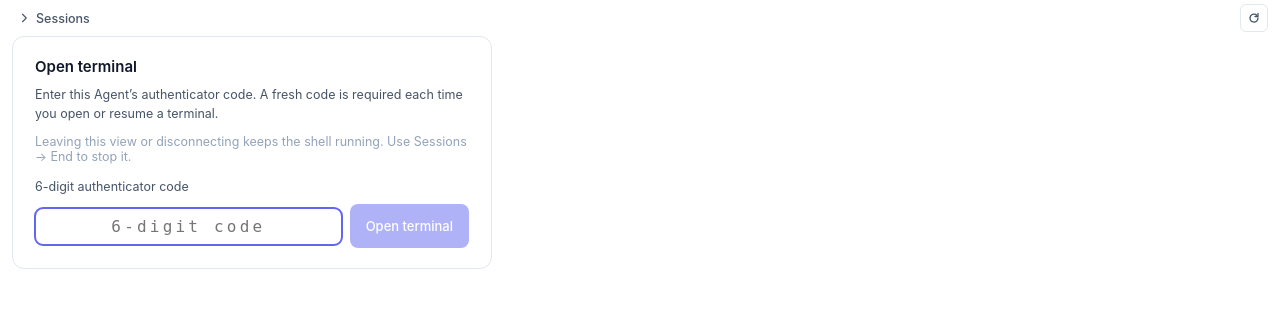
Test: Terminal session recovery › does not resurrect an ended shell with an older refresh result
What coordinates should you click on to do the following:
click the button "Sessions"
I would click on:
 (63, 18)
Its box is [12, 6, 1236, 30].
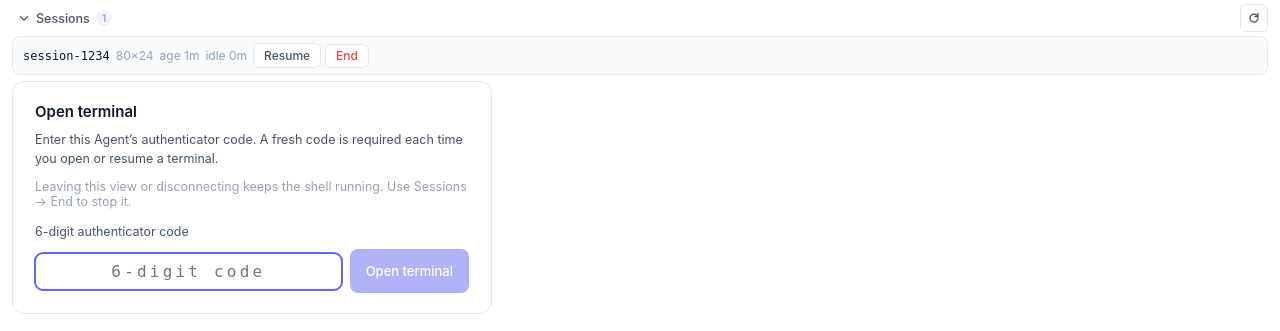
What coordinates should you click on to do the following:
click the button named "Refresh"
I would click on:
 (1254, 18)
Its box is [1240, 4, 1268, 32].
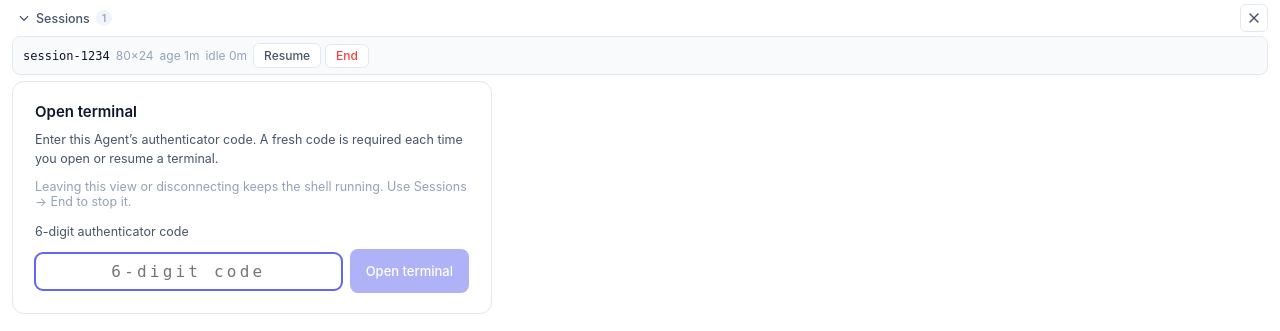
Now the button "End" is shown
What coordinates should you click on to do the following:
click the button "End"
I would click on:
 (347, 56)
Its box is [325, 44, 369, 68].
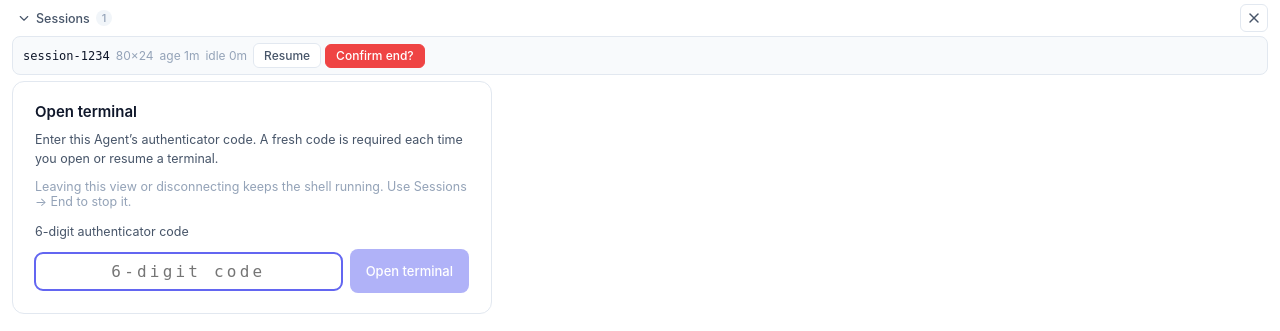
Now the button "Confirm end?" is shown
What coordinates should you click on to do the following:
click the button "Confirm end?"
I would click on:
 (375, 56)
Its box is [325, 44, 425, 68].
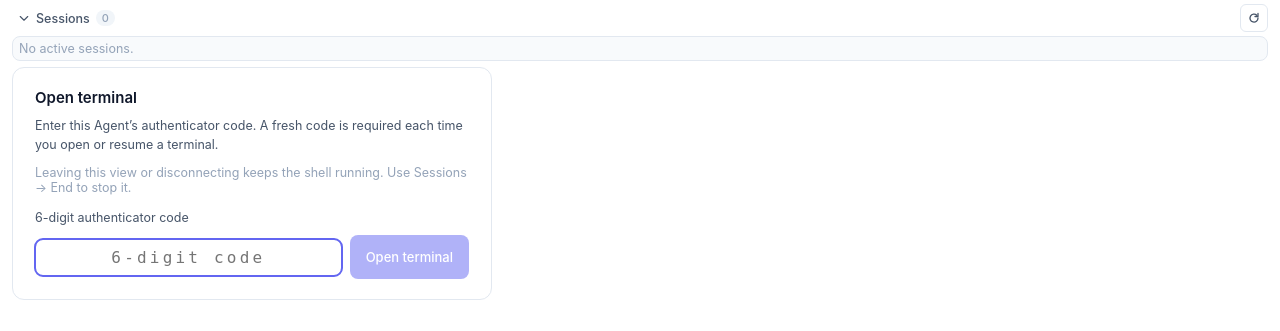
Now the text "No active sessions" is shown, box [19, 41, 134, 56]
Now the text "session-1234" is gone
